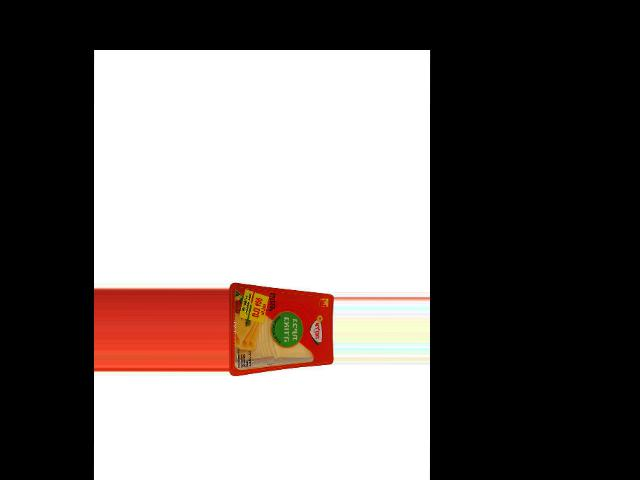cheese: (228, 282, 333, 375)
